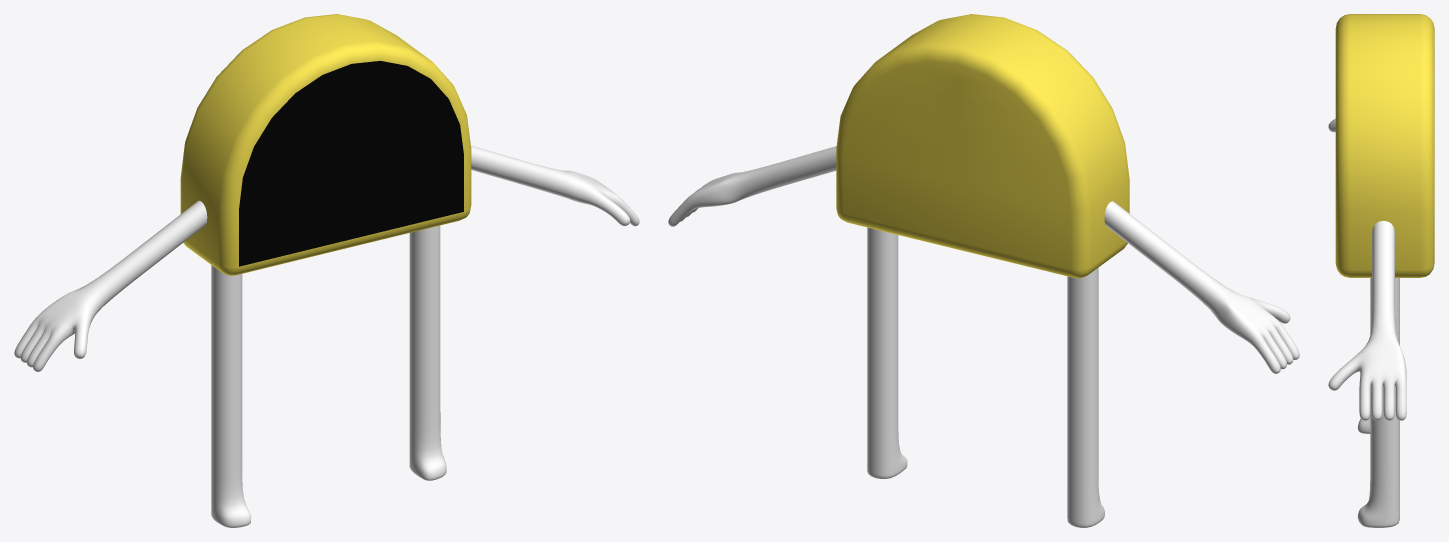
File: Intern.fbx
The picture shows the model from 3 angles, left to right: view 1: azimuth 30°, elevation 25°; view 2: azimuth 150°, elevation 25°; view 3: azimuth 270°, elevation 25°; orthographic projection. The views are drawn at different scales.
Parts seen in each view (by area): view 1: Player.001, Player, Legs.010, Legs.003, Arms.010, Arms.003; view 2: Player, Legs.010, Legs.003, Arms.010, Arms.003; view 3: Player, Arms.003, Legs.003, Legs.010.
Boxes of the visible parts, box(x1,y1,x2,y2) form: Player.001: box(239, 61, 463, 266); Player: box(180, 14, 471, 275); Legs.010: box(211, 265, 250, 527); Legs.003: box(409, 225, 446, 480); Arms.010: box(14, 200, 207, 371); Arms.003: box(471, 145, 639, 226); Player: box(836, 14, 1129, 278); Legs.010: box(1067, 267, 1104, 527); Legs.003: box(867, 227, 907, 478); Arms.010: box(1104, 201, 1299, 373); Arms.003: box(668, 146, 836, 226); Player: box(1335, 14, 1434, 277); Arms.003: box(1328, 221, 1406, 420); Legs.003: box(1357, 278, 1399, 527); Legs.010: box(1357, 415, 1370, 433).
Size of the model in its own units: 3.29 by 0.5141 by 2.4.
